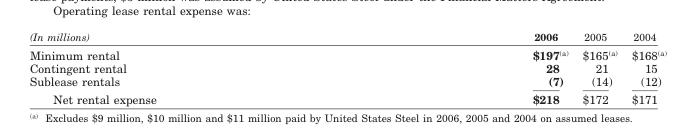table: (28, 29, 665, 105)
table column: (28, 29, 343, 105), (343, 29, 574, 105), (574, 29, 623, 105), (623, 29, 665, 105)
table column header: (28, 29, 665, 61)
table row: (28, 29, 665, 61), (28, 89, 665, 105), (28, 74, 665, 89), (28, 61, 665, 74)
